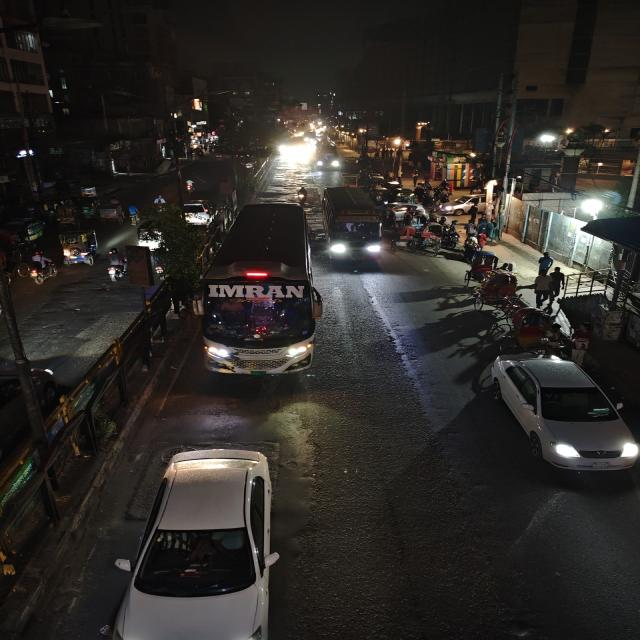bus: (200, 200, 321, 380), (318, 184, 386, 271), (310, 148, 342, 170)
car: (126, 440, 281, 640), (482, 352, 640, 484), (177, 198, 214, 227)
cng: (56, 227, 100, 267), (5, 216, 48, 246), (73, 197, 100, 220)
motorcycle: (21, 250, 59, 286), (537, 321, 570, 357), (135, 217, 166, 249), (104, 248, 130, 282), (151, 193, 169, 216), (294, 185, 309, 205), (182, 177, 197, 193)
pedestrian: (567, 322, 598, 362), (532, 274, 554, 308), (461, 235, 482, 262), (485, 220, 507, 245), (536, 251, 554, 277), (549, 267, 566, 294), (124, 203, 142, 225)
rickshaw: (464, 270, 521, 316), (507, 306, 560, 349), (413, 223, 457, 258), (96, 196, 125, 225)
